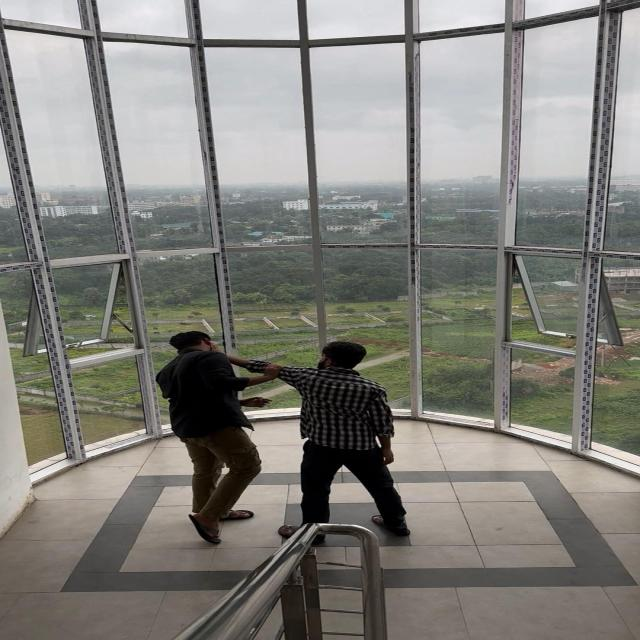fight: (143, 326, 444, 547)
